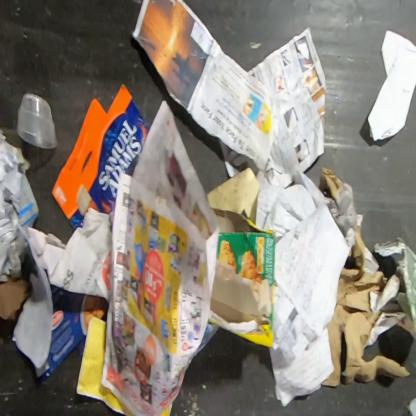cardboard: (318, 164, 411, 388), (50, 82, 152, 232), (208, 208, 276, 350), (35, 283, 109, 383), (373, 234, 415, 342), (206, 167, 261, 224), (0, 274, 32, 322)
rigid_plastic: (15, 90, 59, 152)
